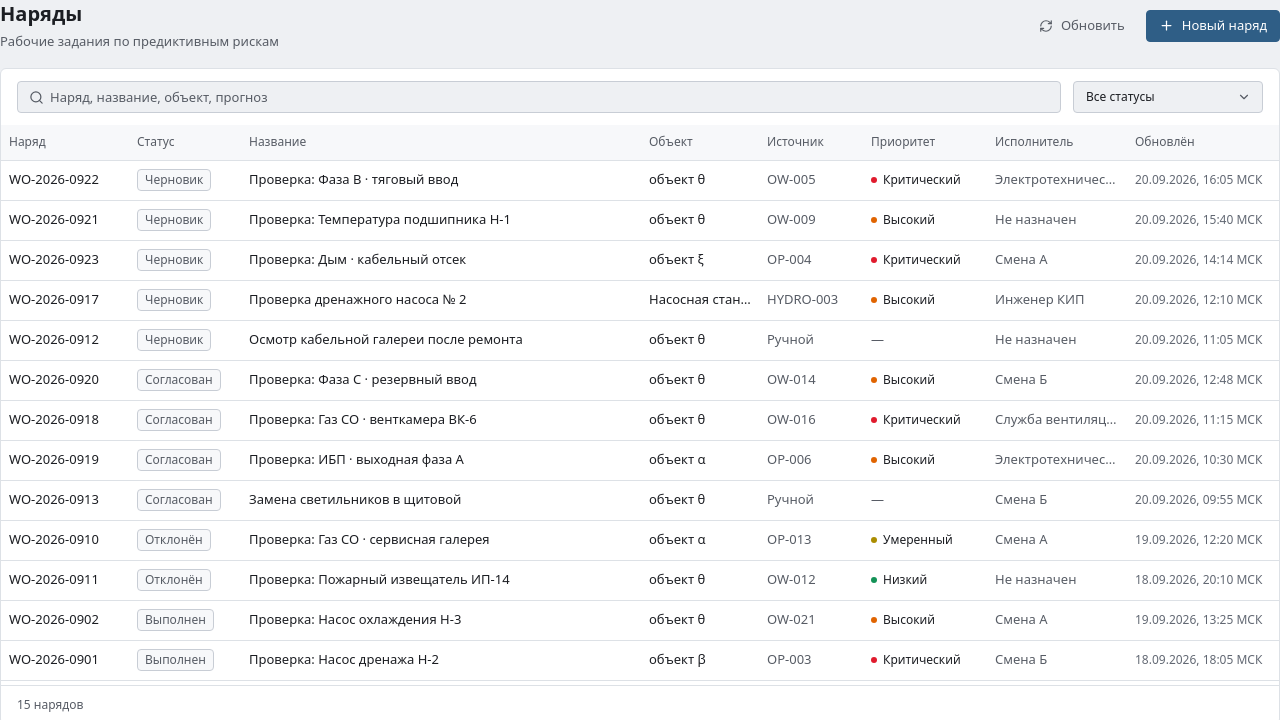
Test case: Ticket detail › opens from a row click and keeps the ticket in the URL
Click the row "WO-2026-0917" at (640, 300), box [1, 280, 1279, 320]
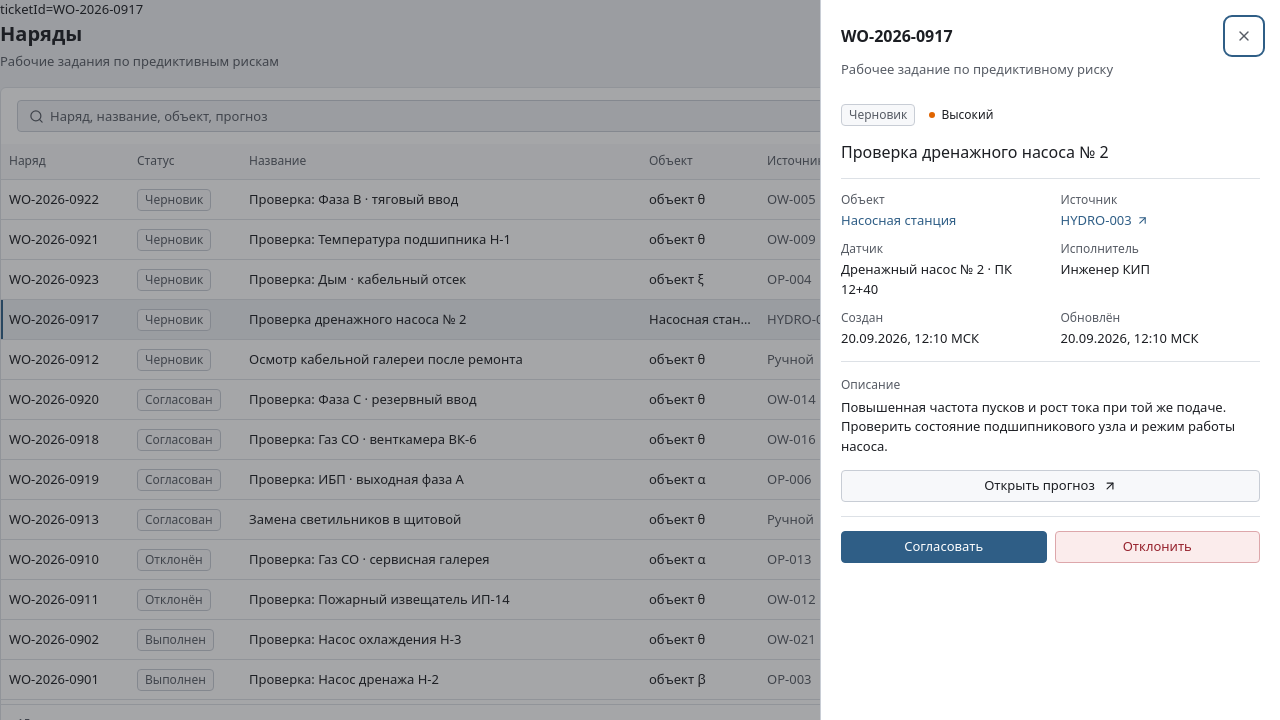
Now the dialog is shown, box [820, 0, 1279, 719]
Now the heading "Проверка дренажного насоса № 2" is shown, box [841, 140, 1109, 162]
Now the text with test id "query" reads "ticketId=WO-2026-0917", box [0, 0, 143, 18]
